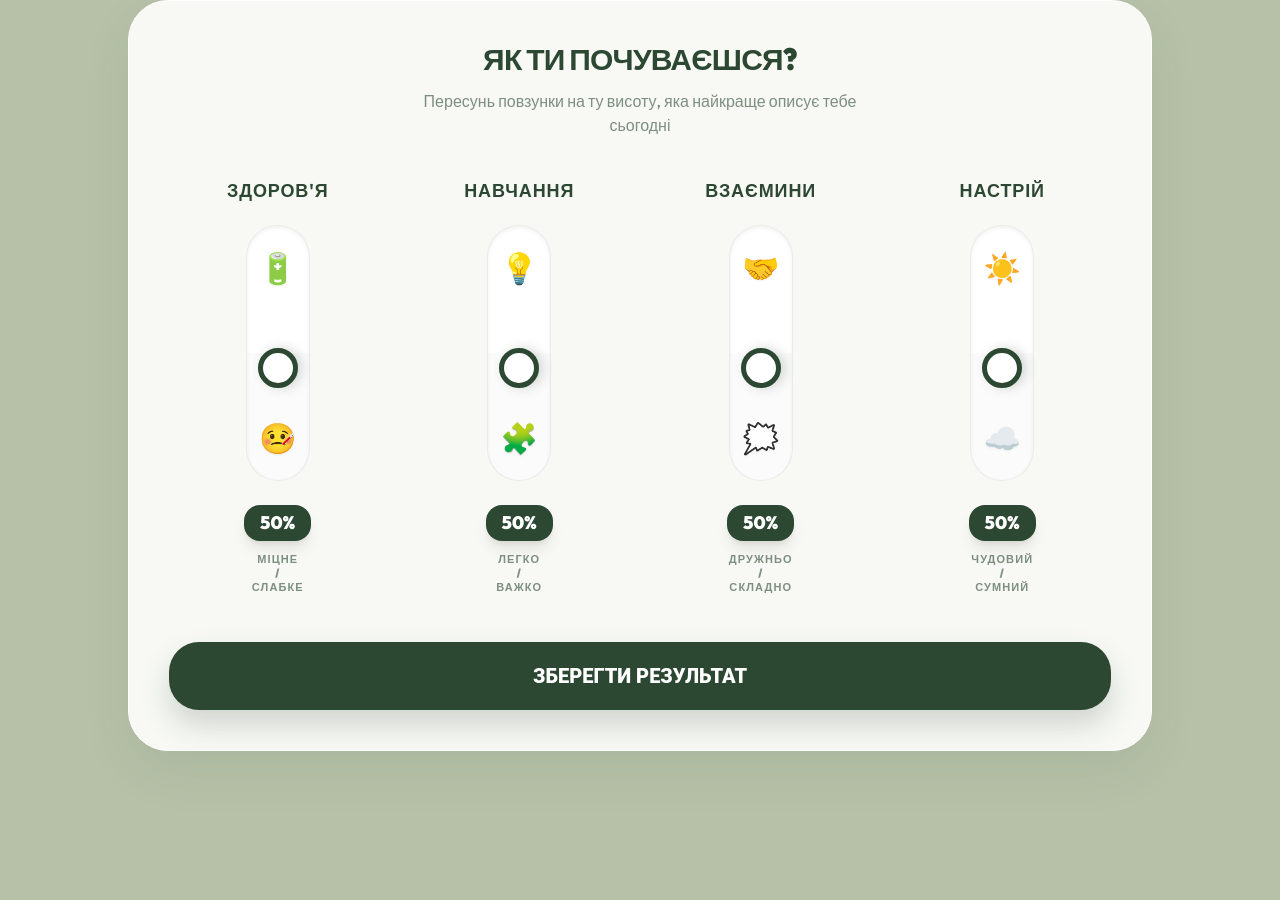
Test case: DemboRubinstein › disables button while loading
What coordinates should you click on to do the following:
click the button "ЗБЕРЕГТИ РЕЗУЛЬТАТ"
I would click on:
 (640, 676)
Its box is [169,642,1111,710].
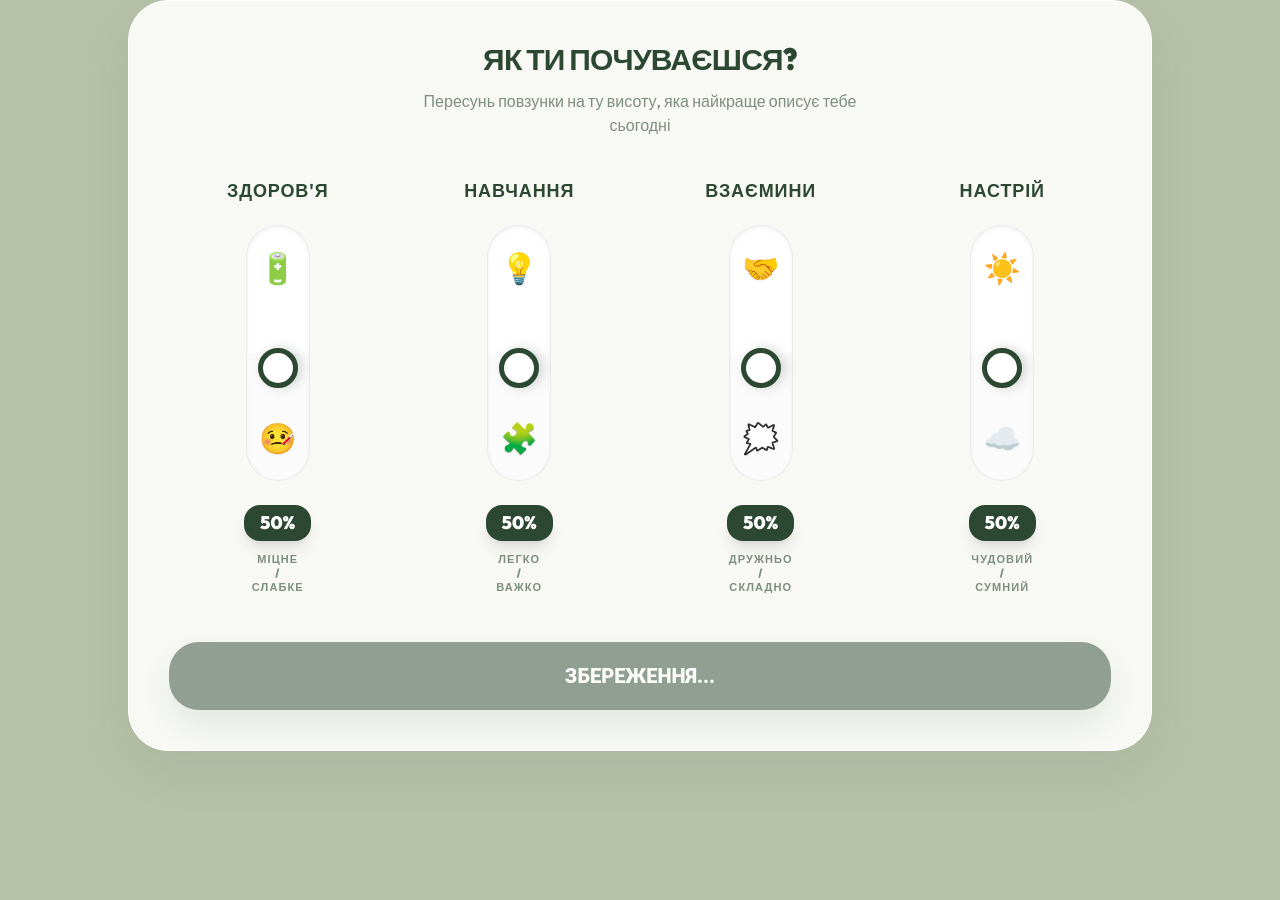
Expected: the button "зберегти результат" is disabled, [169,642,1111,710]
